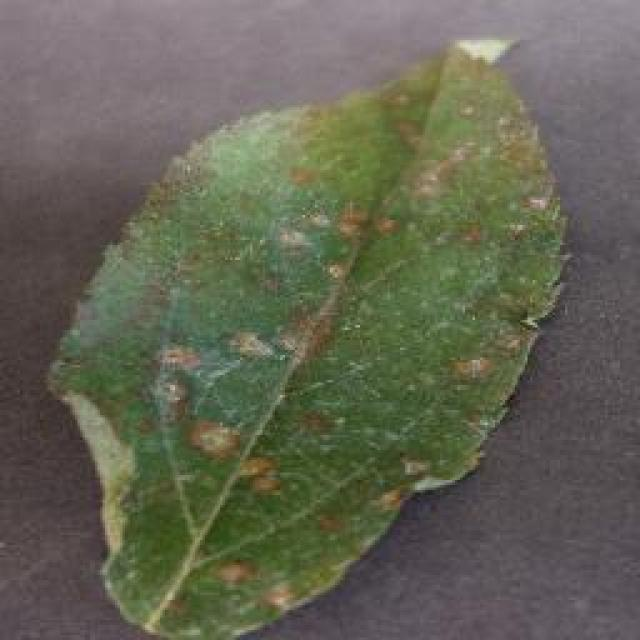apple healthy: (42, 35, 570, 637)
